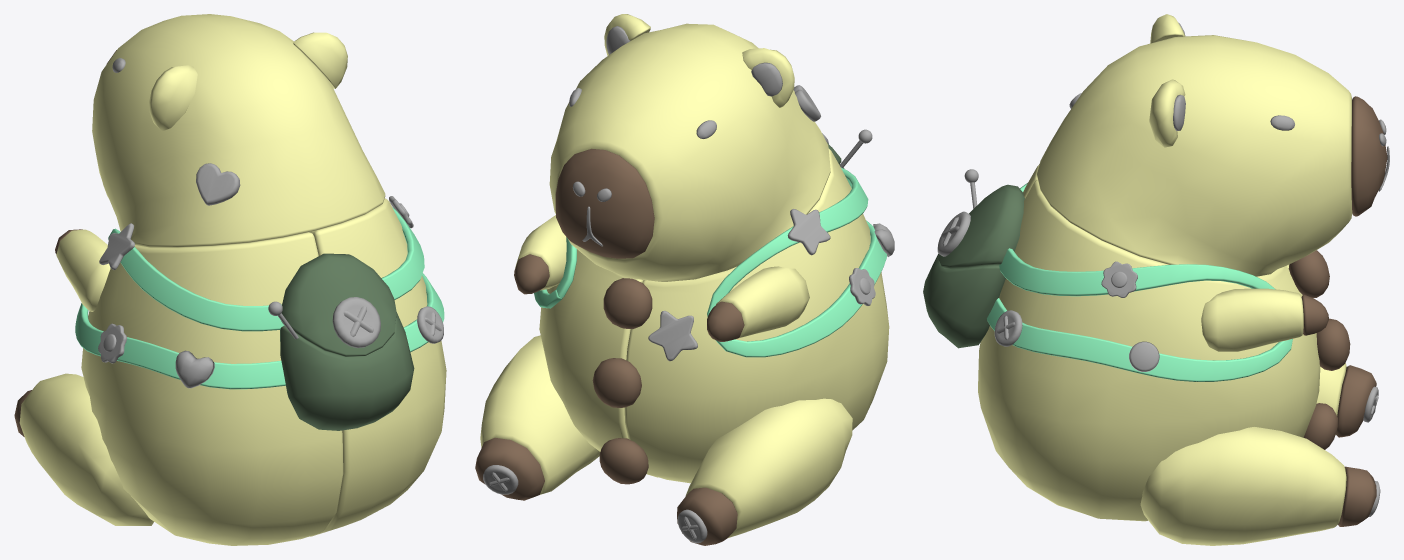
The model's file is Capybara.fbx.
3 views of the same model, side by side, from view 1: azimuth 30°, elevation 25°; view 2: azimuth 150°, elevation 25°; view 3: azimuth 270°, elevation 25° (orthographic). The views are drawn at different scales.
Parts seen in each view (by area): view 1: S_Capybara_2, S_Capybara_3, S_Capybara_1, M_Capybara_22, M_Capybara_9, M_Capybara_8, S_Capybara_8, S_Capybara_9, M_Capybara_12, S_Capybara_5, D_Capybara_9, S_Capybara_4 (+7 smaller); view 2: S_Capybara_3, S_Capybara_2, M_Capybara_22, S_Capybara_1, M_Capybara_17, M_Capybara_7, M_Capybara_12, S_Capybara_9, S_Capybara_8, M_Capybara_1, M_Capybara_4, M_Capybara_16 (+14 smaller); view 3: S_Capybara_3, S_Capybara_1, M_Capybara_17, S_Capybara_11, M_Capybara_2, M_Capybara_9, S_Capybara_10, M_Capybara_8, M_Capybara_7, M_Capybara_4, M_Capybara_1, S_Capybara_4 (+10 smaller).
Boxes of the visible parts, box(x1,y1,x2,y2) form: S_Capybara_2: box(81, 232, 343, 545); S_Capybara_3: box(92, 14, 385, 247); S_Capybara_1: box(309, 198, 446, 536); M_Capybara_22: box(19, 373, 153, 525); M_Capybara_9: box(280, 312, 414, 430); M_Capybara_8: box(281, 253, 396, 356); S_Capybara_8: box(108, 228, 284, 331); S_Capybara_9: box(75, 303, 285, 389); M_Capybara_12: box(56, 229, 110, 311); S_Capybara_5: box(149, 65, 197, 131); D_Capybara_9: box(332, 297, 380, 347); S_Capybara_4: box(293, 32, 347, 88); S_Capybara_3: box(549, 23, 830, 281); S_Capybara_2: box(624, 148, 889, 483); M_Capybara_22: box(685, 398, 852, 537); S_Capybara_1: box(539, 249, 657, 477); M_Capybara_17: box(480, 335, 600, 494); M_Capybara_7: box(555, 148, 654, 258); M_Capybara_12: box(716, 266, 809, 338); S_Capybara_9: box(715, 220, 886, 357); S_Capybara_8: box(707, 167, 868, 316); M_Capybara_1: box(475, 437, 544, 500); M_Capybara_4: box(677, 487, 737, 545); M_Capybara_16: box(603, 278, 652, 329); S_Capybara_3: box(1037, 35, 1352, 276); S_Capybara_1: box(978, 180, 1320, 521); M_Capybara_17: box(1140, 427, 1346, 545); S_Capybara_11: box(987, 298, 1292, 381); M_Capybara_2: box(1201, 288, 1303, 351); M_Capybara_9: box(923, 253, 1005, 348); S_Capybara_10: box(999, 248, 1275, 296); M_Capybara_8: box(938, 184, 1024, 269); M_Capybara_7: box(1351, 96, 1387, 216); M_Capybara_4: box(1336, 365, 1376, 437); M_Capybara_1: box(1338, 466, 1376, 526); S_Capybara_4: box(1149, 79, 1185, 147).
Bounding box in the file's own units: 357 × 481 × 454.
